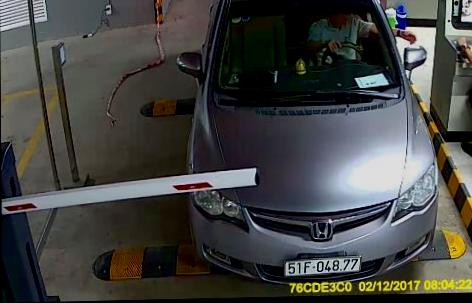License_Plate: (281, 250, 366, 279)
